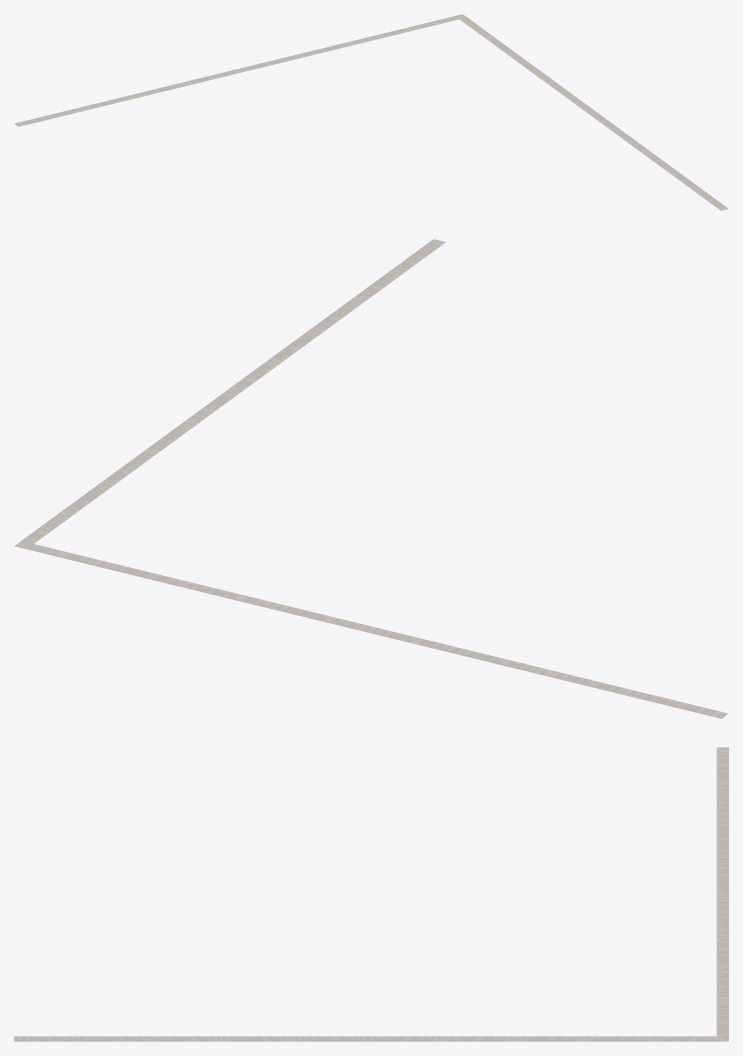
File: kd_stage_135c43_4_92_bounded_piece_3.glb
3 views of the same model, one above another, from view 1: azimuth 30°, elevation 25°; view 2: azimuth 150°, elevation 25°; view 3: azimuth 270°, elevation 25° (orthographic). The views are drawn at different scales.
Visible parts, largest first — view 1: kd_stage_135c43_4_92_bounded_piece_3; view 2: kd_stage_135c43_4_92_bounded_piece_3; view 3: kd_stage_135c43_4_92_bounded_piece_3.
Boxes of the visible parts, bbox=[...] form: kd_stage_135c43_4_92_bounded_piece_3: bbox=[14, 14, 728, 210]; kd_stage_135c43_4_92_bounded_piece_3: bbox=[14, 239, 728, 718]; kd_stage_135c43_4_92_bounded_piece_3: bbox=[14, 747, 728, 1041].
Bounding box in the file's own units: 5.62 × 3.58e-07 × 5.77.
1 material, 1 textured.
